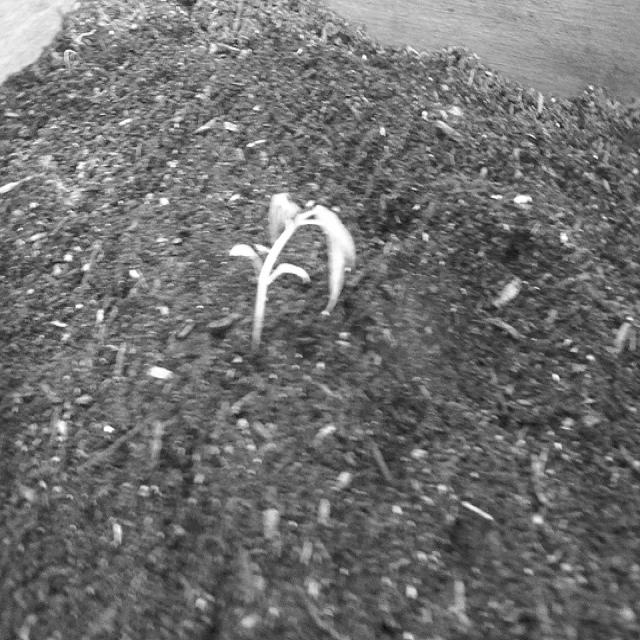Healthy: (224, 184, 361, 368)
